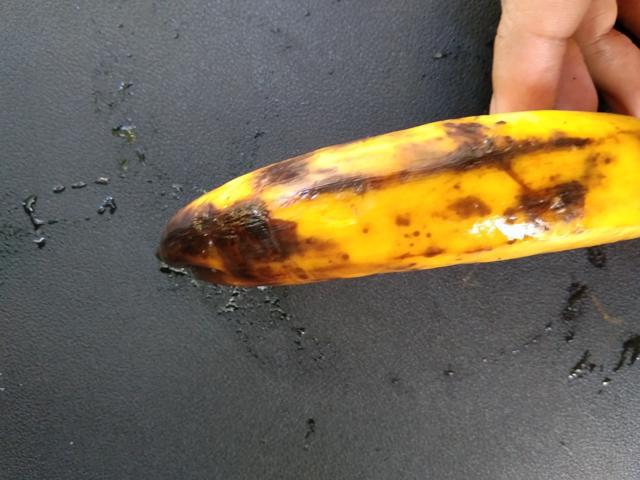rotten: (131, 79, 639, 312)
